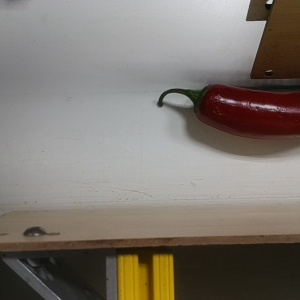Cut Point: (185, 82, 221, 122)
